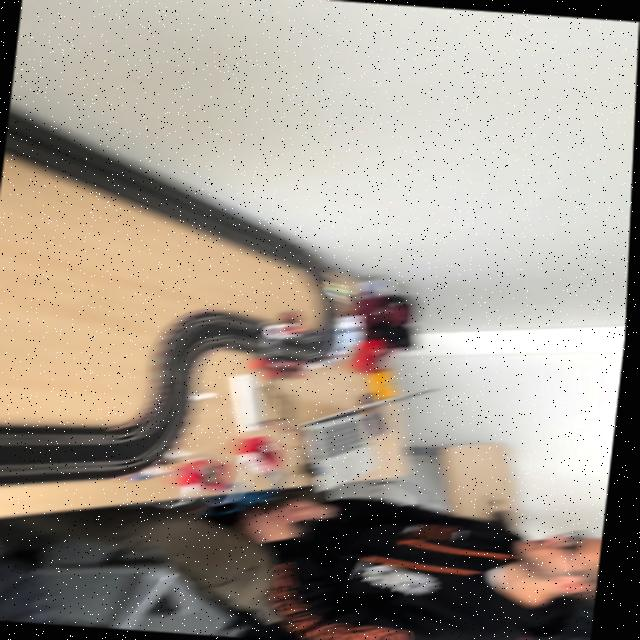mario: (262, 317, 312, 343)
yoshi: (315, 278, 366, 307)
